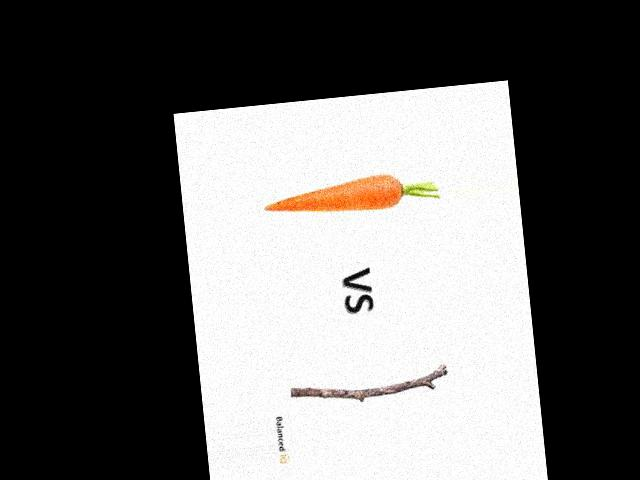carrot: (256, 170, 412, 227)
